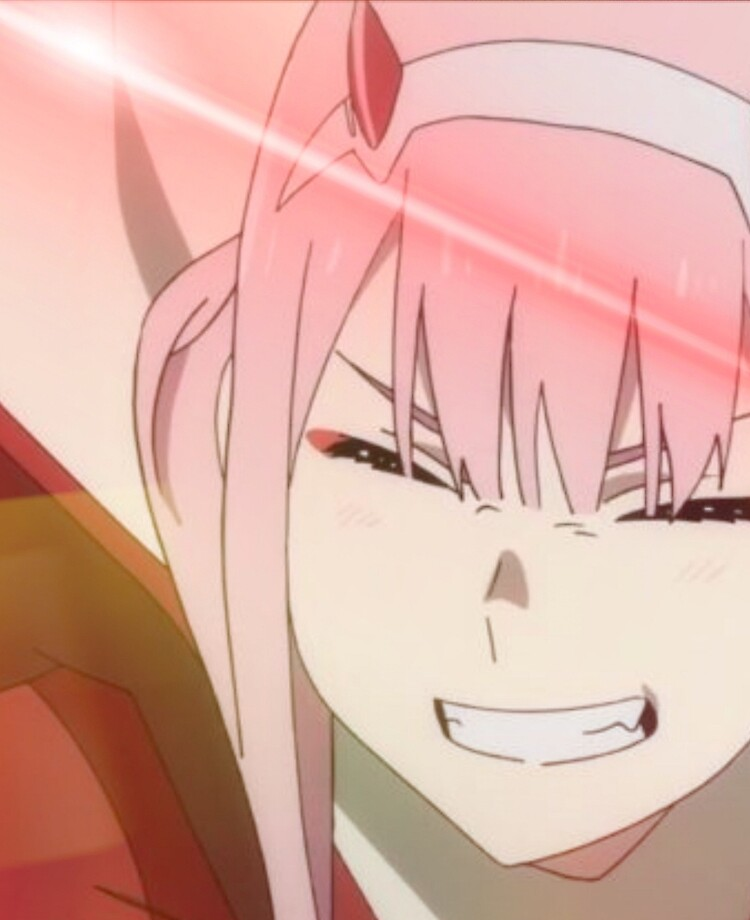zeroTwo: (206, 2, 750, 870)
